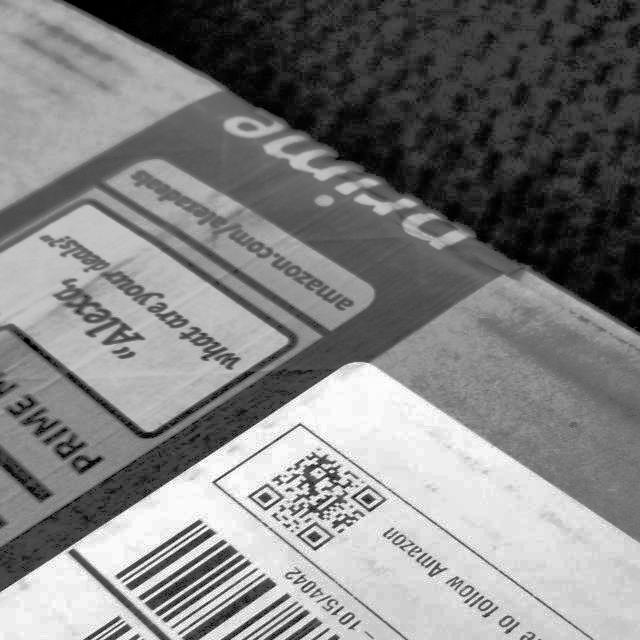qr_code: (242, 439, 394, 555)
